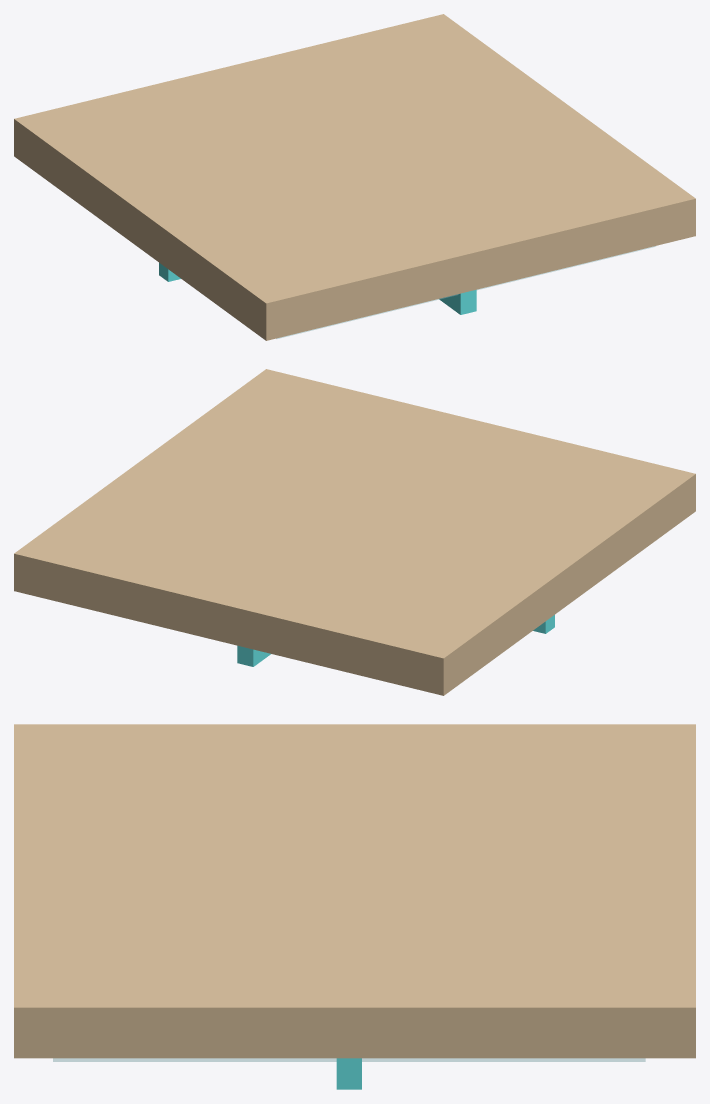
The model's file is skylight.glb.
3 renders of one model, top to bottom at view 1: azimuth 30°, elevation 25°; view 2: azimuth 150°, elevation 25°; view 3: azimuth 270°, elevation 25°, orthographic. The views are drawn at different scales.
Visible parts, largest first — view 1: world; view 2: world; view 3: world.
Part boxes in pixels (left/top/right/bottom): world: left=14, top=14, right=695, bottom=340; world: left=14, top=369, right=695, bottom=695; world: left=14, top=724, right=695, bottom=1089.
Size of the model in its own units: 1.2 by 0.19 by 1.22.
